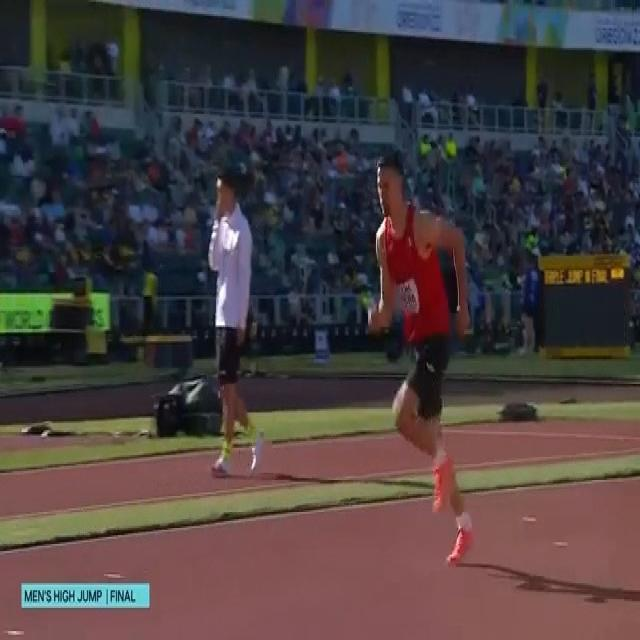run: (368, 153, 484, 578)
